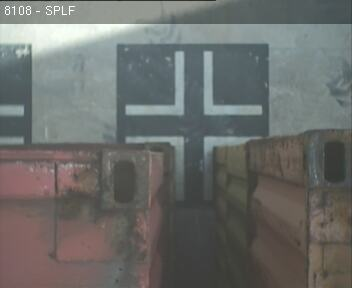groundmarker_1: (124, 134, 262, 199), (125, 50, 263, 115)
